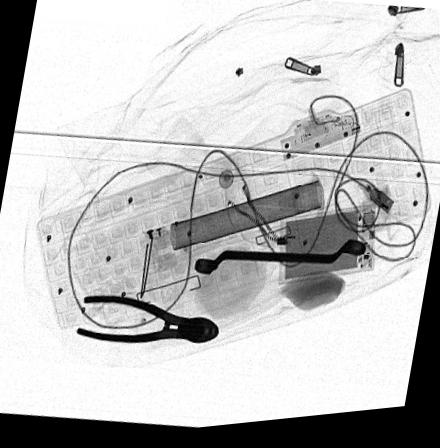Pliers: (75, 296, 219, 348)
Powerbank: (277, 211, 375, 290)
Wrench: (191, 245, 367, 278)
